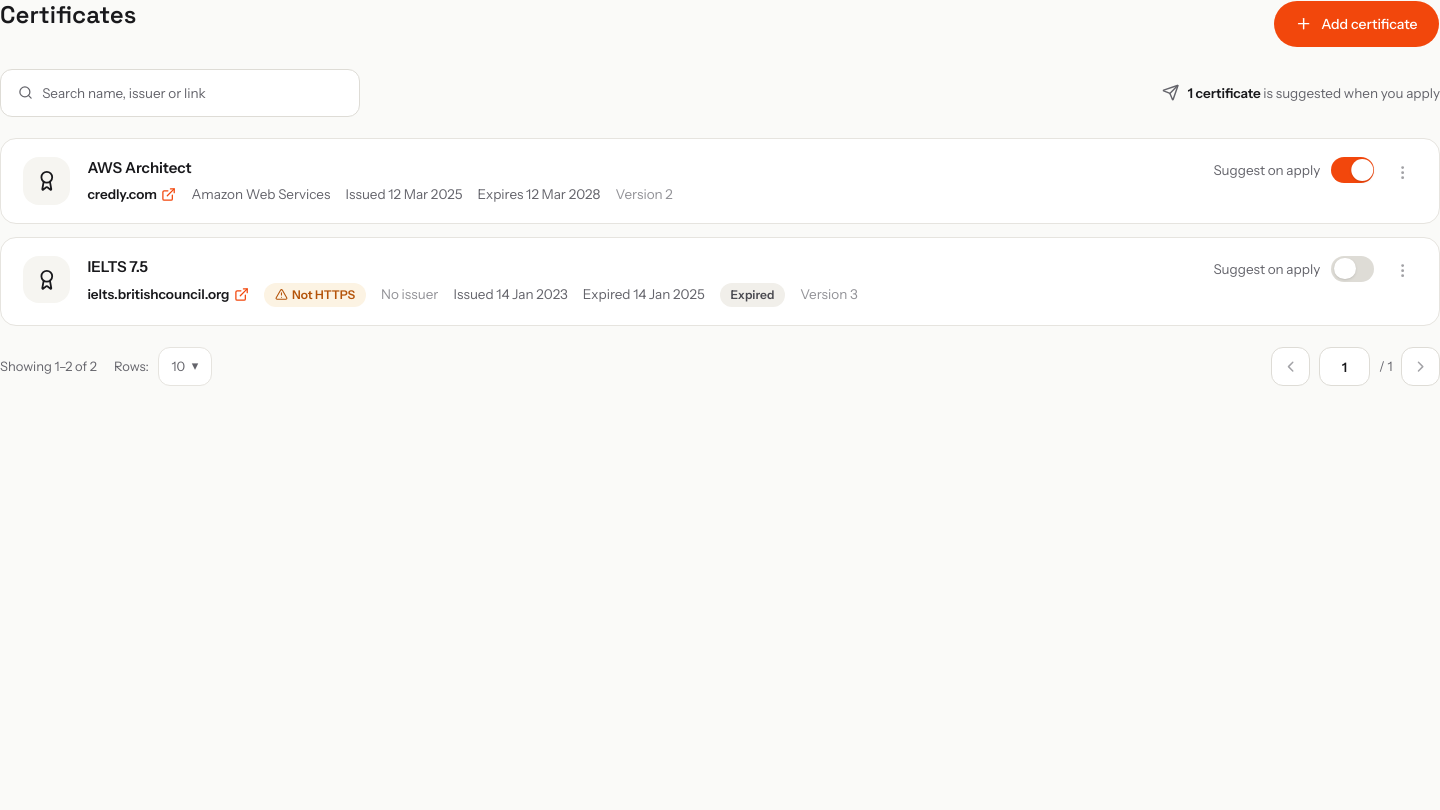
Certificates page (UC-S4-CERT-01..05) › says the certificate was deleted elsewhere when the switch gets a 404, with only OK
Click the switch named "Suggest AWS Architect when I apply". click: (1353, 170)
box: [1331,157,1374,183]
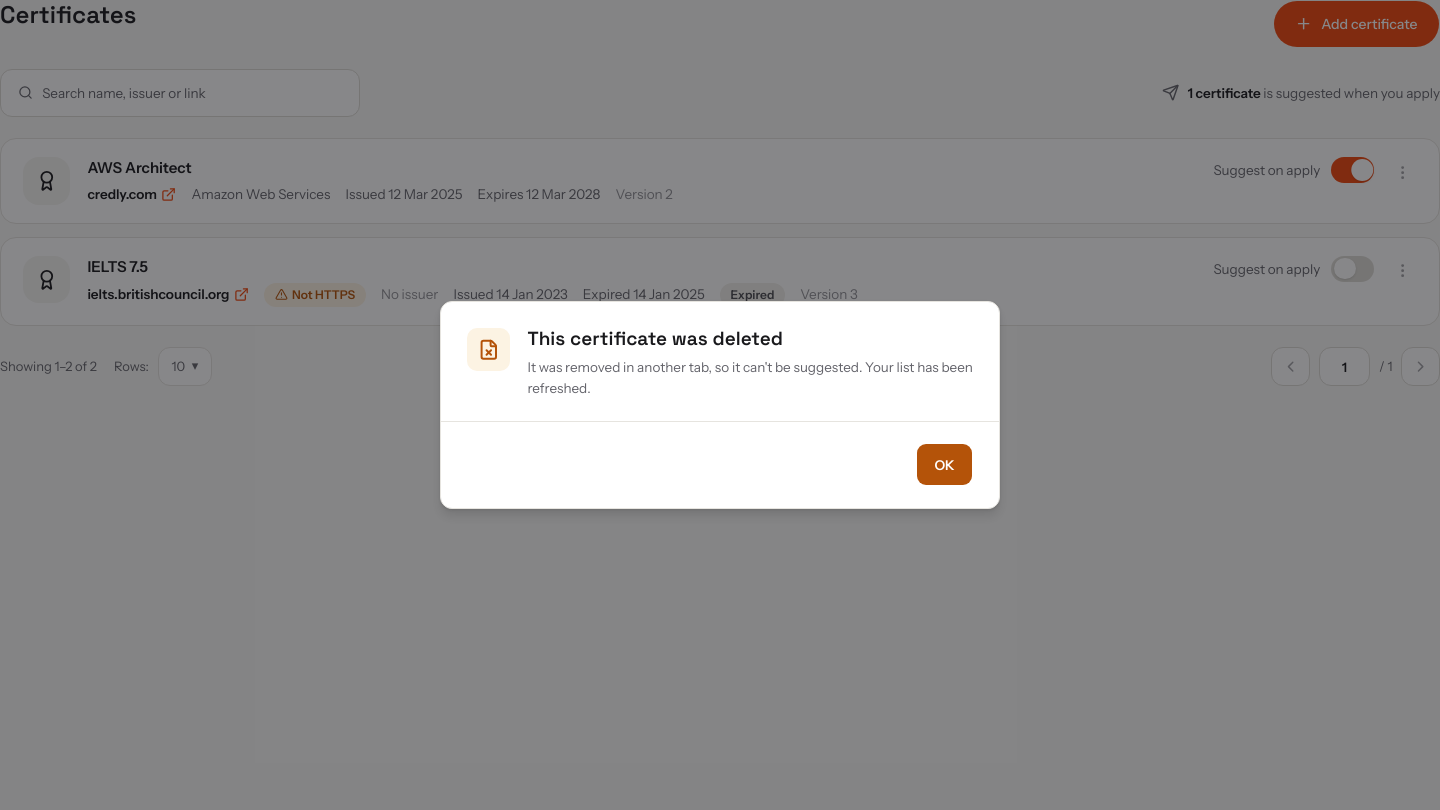
Expected: the text "It was removed in another tab" is shown, [528,359,973,396]
Click the button "OK". click: (945, 465)
box: [916,443,973,486]
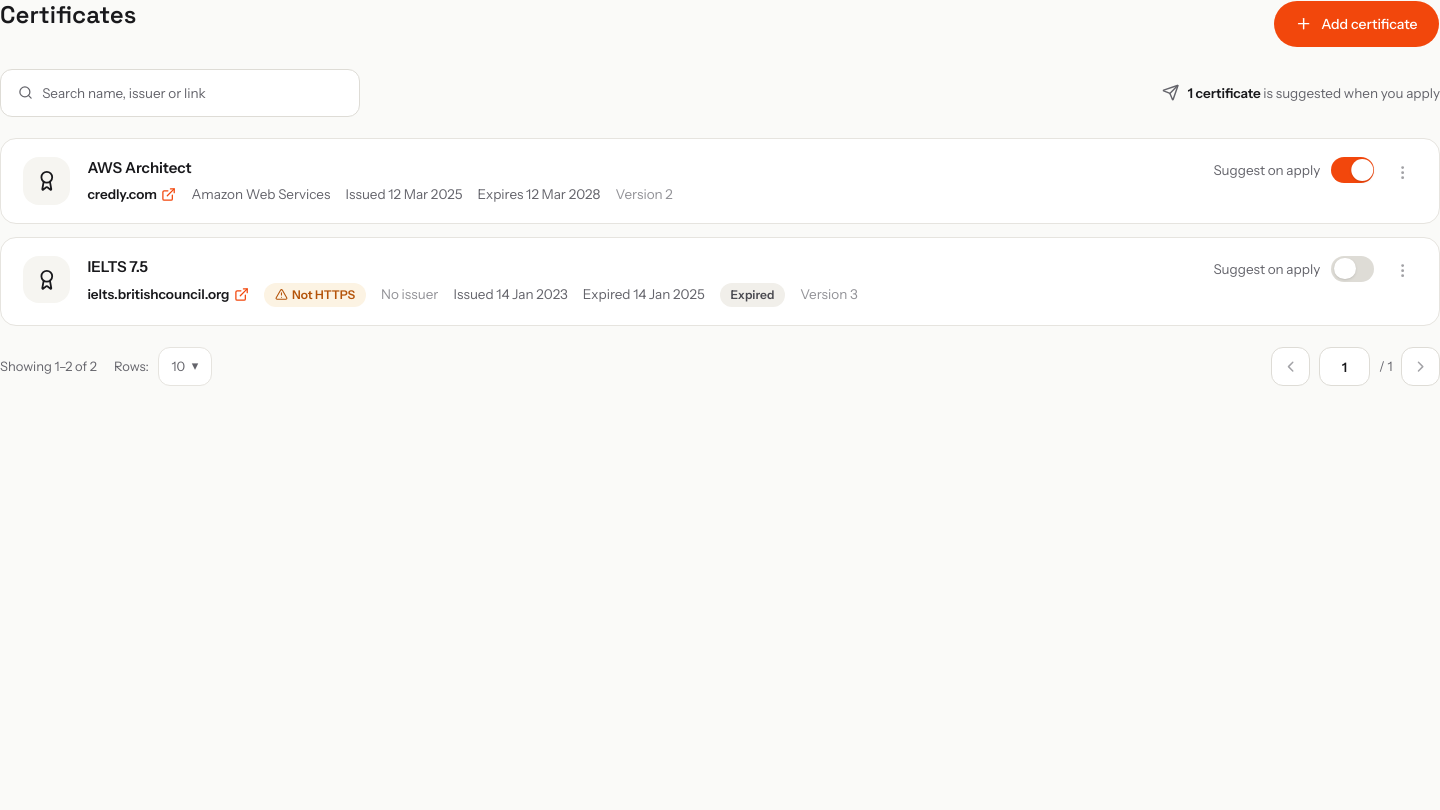
Expected: the dialog is gone
